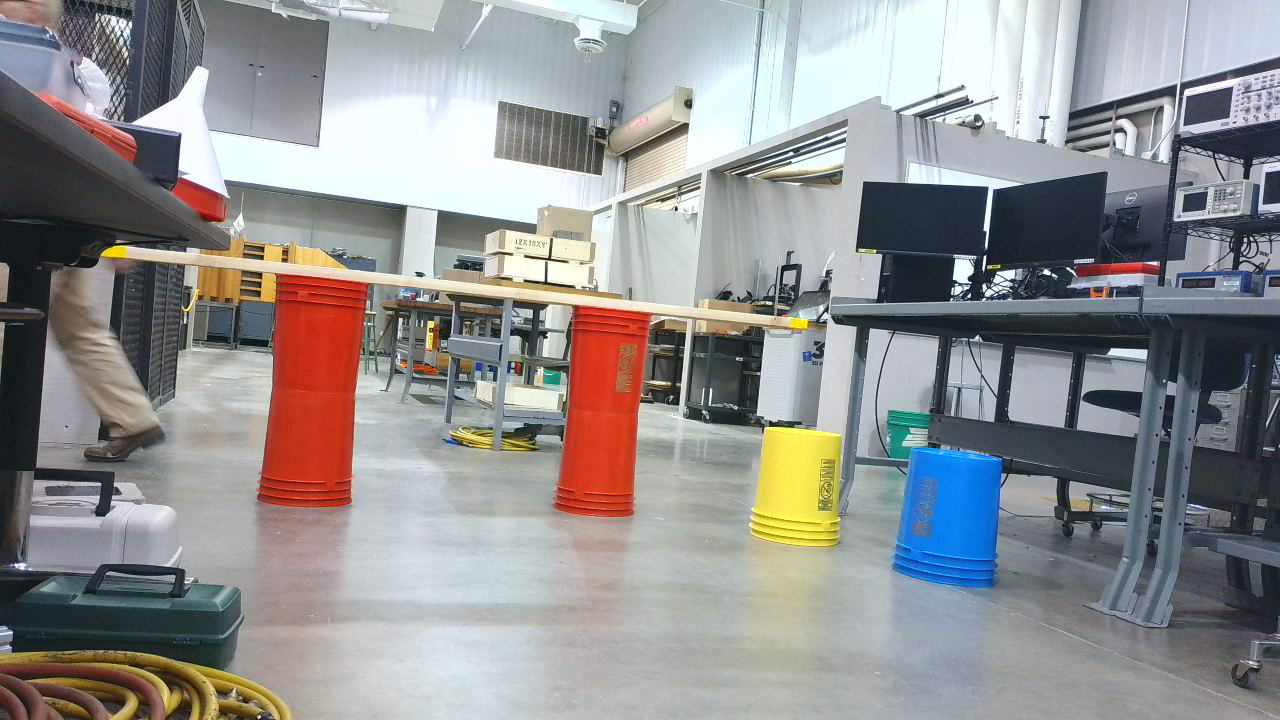blue_bucket: (892, 448, 1013, 598)
red_bucket_arch: (254, 267, 663, 525)
yellow_bucket: (751, 427, 852, 555)
